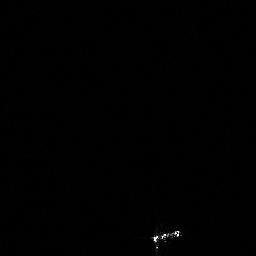ship: (146, 226, 186, 252)
